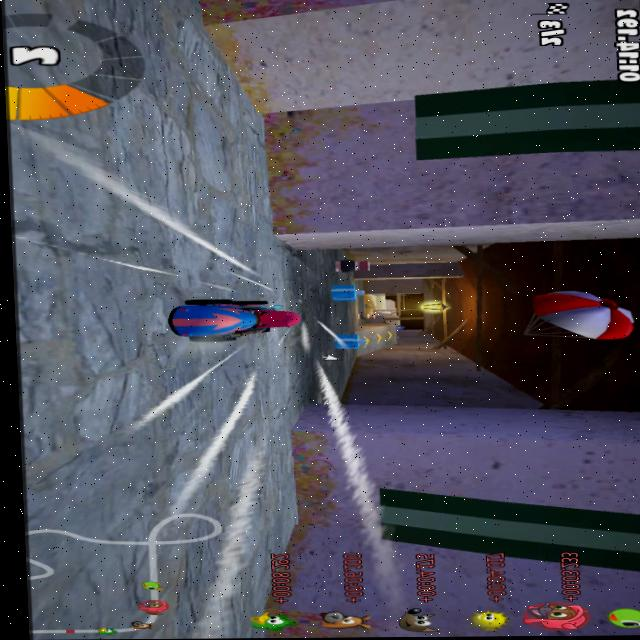bonus: (325, 286, 368, 304), (335, 332, 368, 353)
player_kart: (168, 287, 297, 346)
power_up: (384, 334, 397, 341)
track: (7, 3, 122, 636), (104, 346, 275, 590), (110, 85, 279, 286), (101, 0, 221, 85), (281, 249, 330, 394), (262, 349, 296, 521), (106, 284, 173, 347), (325, 304, 360, 330), (362, 301, 385, 316)
